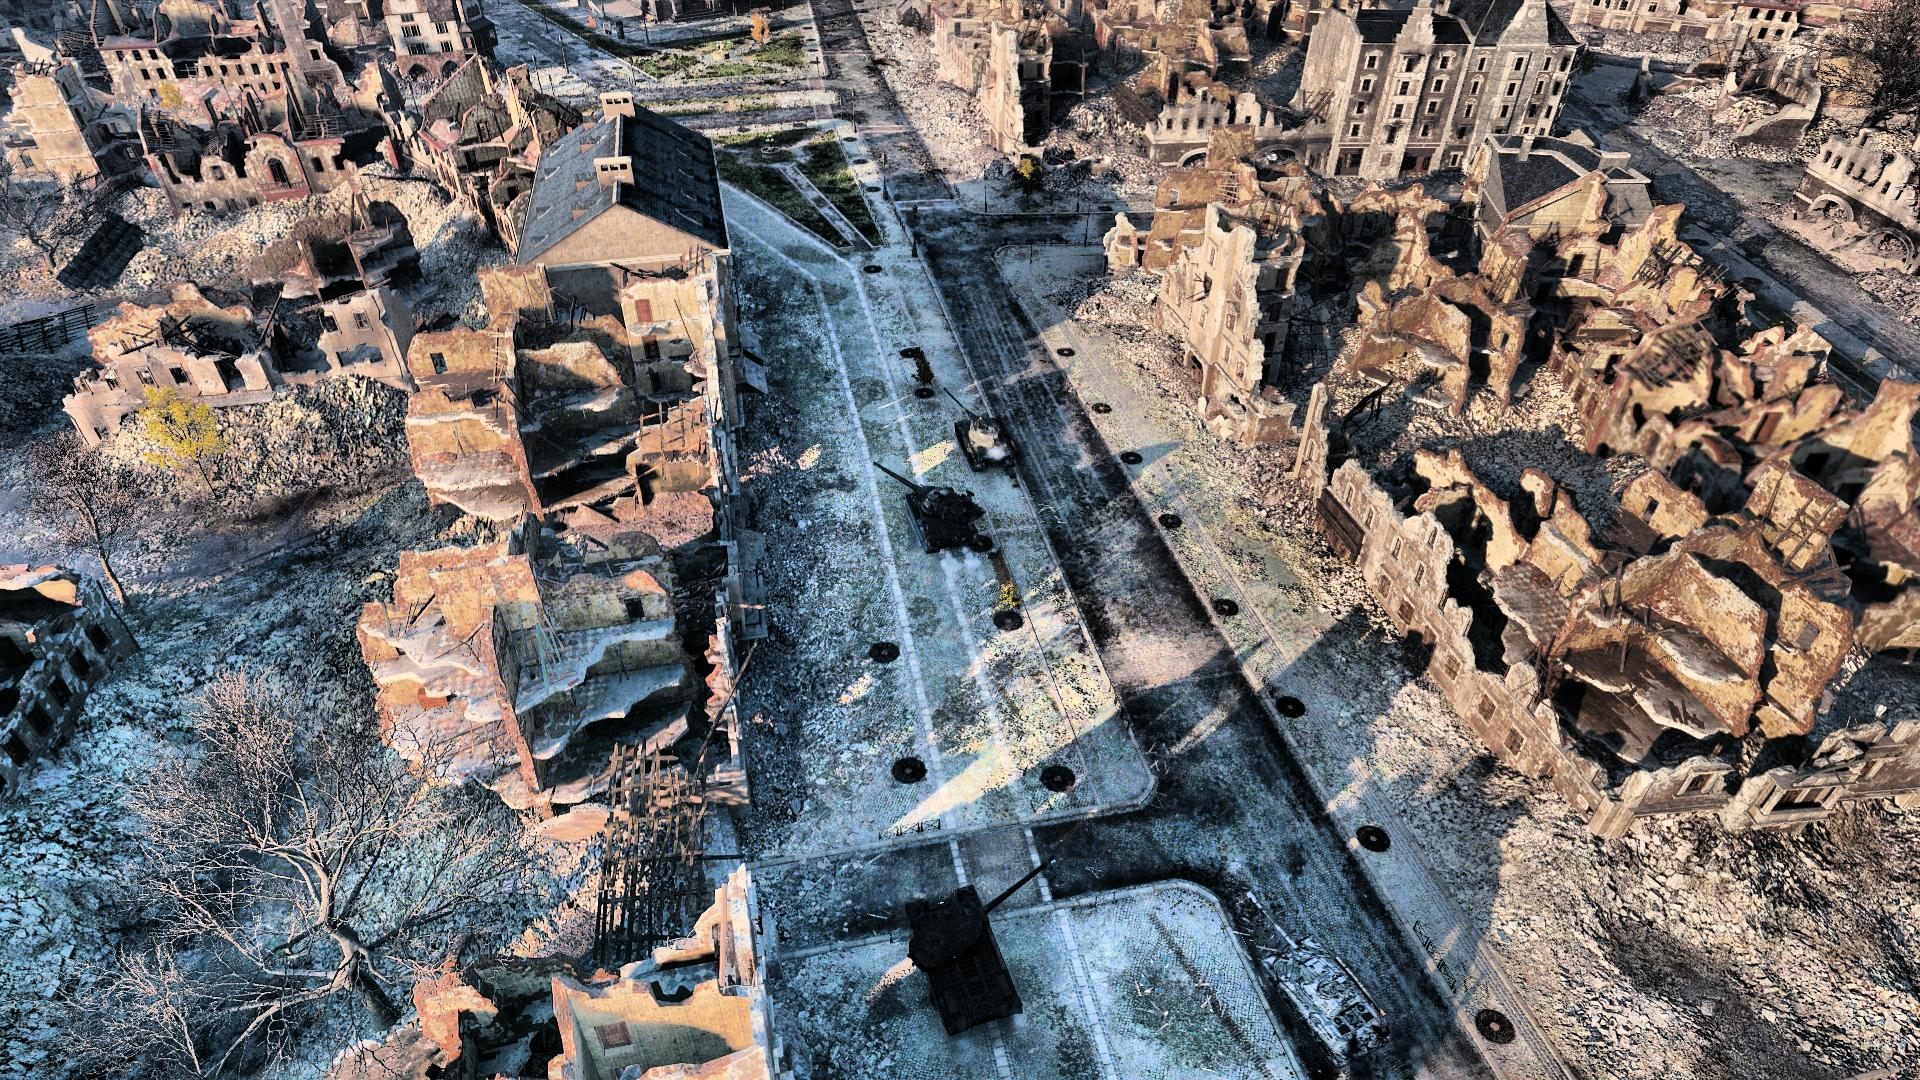military-vehicle: (905, 858, 1056, 1036), (1246, 893, 1393, 1067), (870, 463, 984, 555), (943, 389, 1017, 472)
